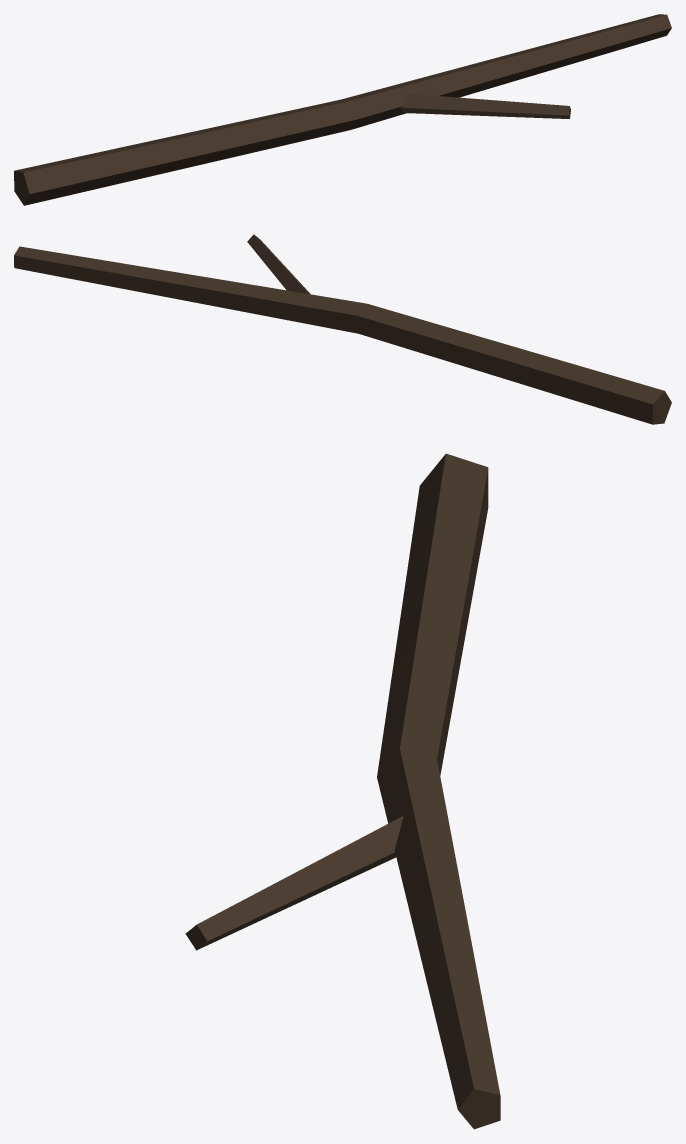
File: stick.glb
3 renders of one model, top to bottom at view 1: azimuth 30°, elevation 25°; view 2: azimuth 150°, elevation 25°; view 3: azimuth 270°, elevation 25°, orthographic. The views are drawn at different scales.
Parts seen in each view (by area): view 1: stick; view 2: stick; view 3: stick.
Boxes of the visible parts, bbox=[...] form: stick: bbox=[14, 14, 671, 205]; stick: bbox=[14, 234, 671, 424]; stick: bbox=[185, 453, 500, 1129].
Bounding box in the file's own units: 0.622 × 0.0335 × 0.1327.
